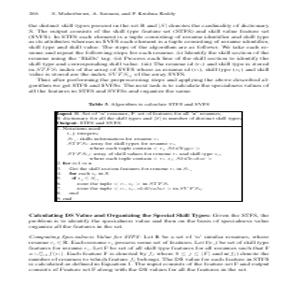diagram: (51, 110, 245, 205)
text: (27, 11, 272, 95), (26, 211, 269, 274)
